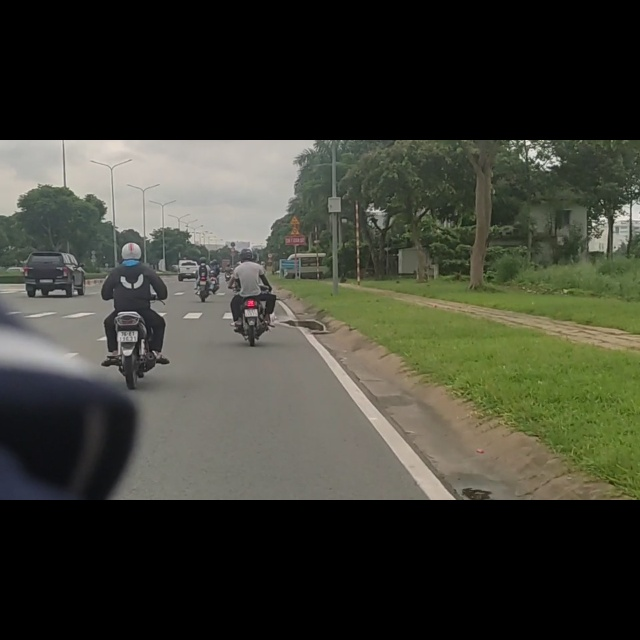bien_nguy_hiem: (290, 154, 301, 171), (290, 133, 300, 151), (230, 181, 235, 190)
